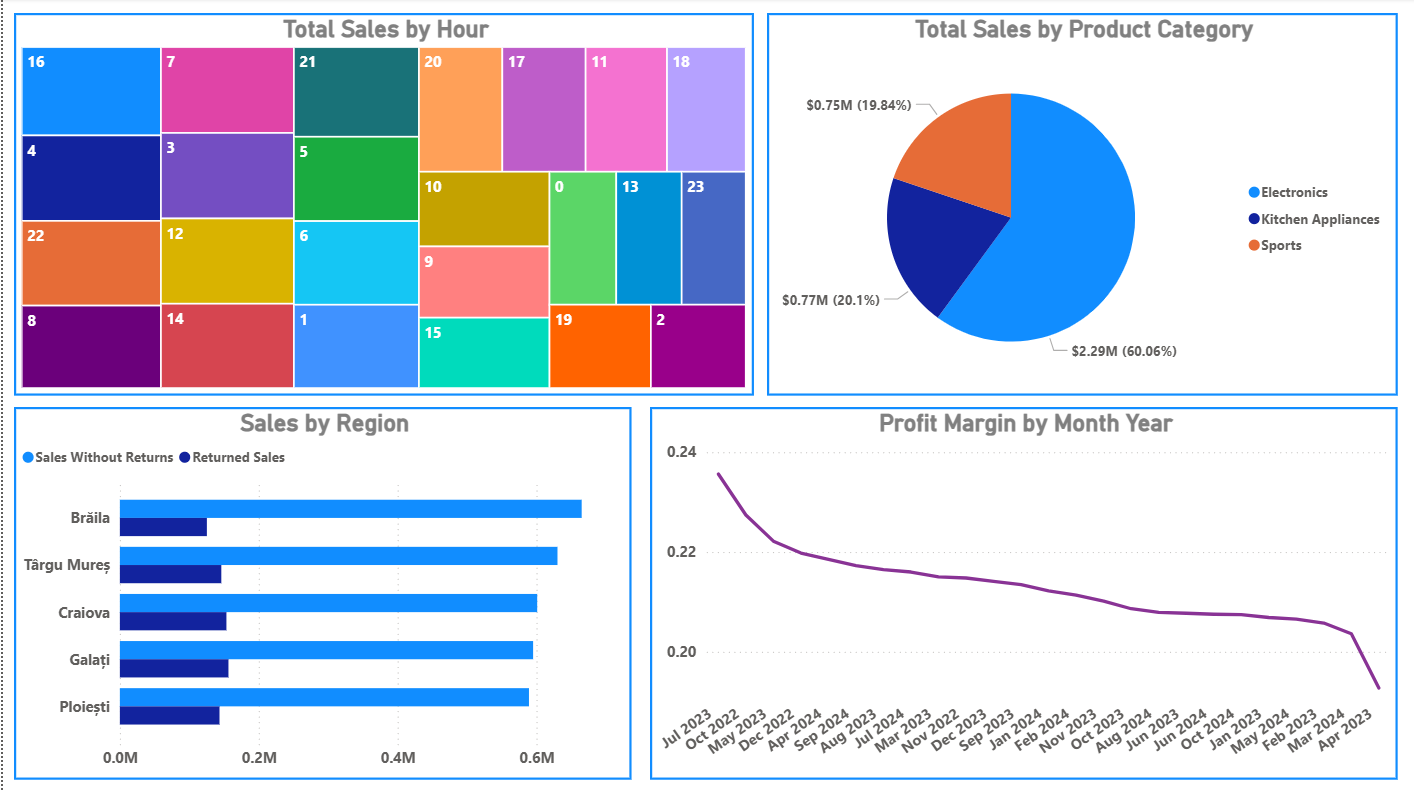

The page's visual inventory and layout, read from the dashboard file:
{"tool":"powerbi","page":{"name":"Dashboard 2","canvas":[1280,720],"ordinal":2},"visuals":[{"type":"treemap","title":"Total Sales by Hour","fields":{"Values":["Sum(Orders.Total_Sales)"],"Group":["Orders.Hour"]},"box":[10.3,13.3,670.5,347.1],"z":0},{"type":"pieChart","title":"Total Sales by Product Category","fields":{"Category":["Orders.Product_Category"],"Y":["Sum(Orders.Total_Sales)"]},"box":[692.7,13.3,571.6,347.1],"z":2},{"type":"lineChart","title":"Profit Margin by Month Year","fields":{"Y":["Orders.Profit Margin"],"Category":["Orders.Month_Year"]},"box":[586.3,370.7,677.9,338.2],"z":3},{"type":"clusteredBarChart","title":"Sales by Region","fields":{"Category":["Orders.Region_Name"],"Y":["Orders.Sales Without Returns","Orders.Returned Sales"]},"box":[10.3,370.7,559.8,338.2],"z":4}]}

Visuals, with their boxes in screenshot pixels (x1, y1, x2, y2), scaled from the page's 1280x720 canvas onto the 1414x792 screenshot:
"Total Sales by Hour" treemap: BBox(11, 15, 752, 396)
"Total Sales by Product Category" pieChart: BBox(765, 15, 1397, 396)
"Profit Margin by Month Year" lineChart: BBox(648, 408, 1397, 780)
"Sales by Region" clusteredBarChart: BBox(11, 408, 630, 780)
